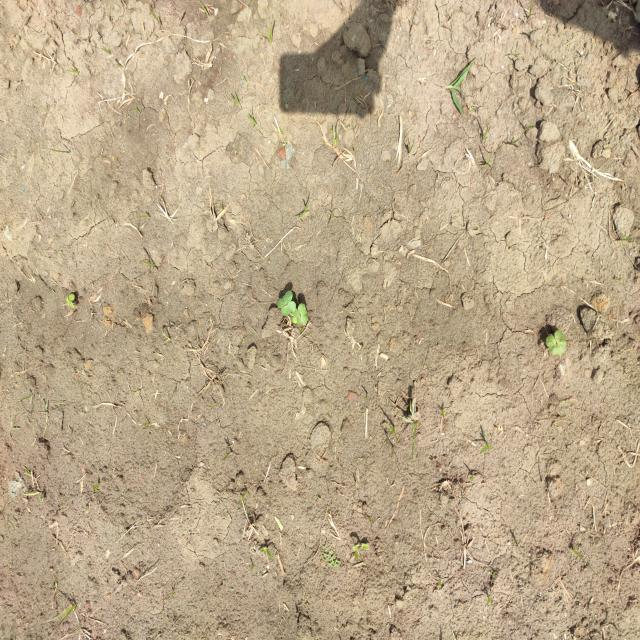seedling: (545, 335, 560, 356), (555, 330, 567, 355), (278, 290, 292, 309), (281, 301, 296, 316), (298, 303, 308, 324), (293, 308, 302, 324), (68, 294, 75, 309)
